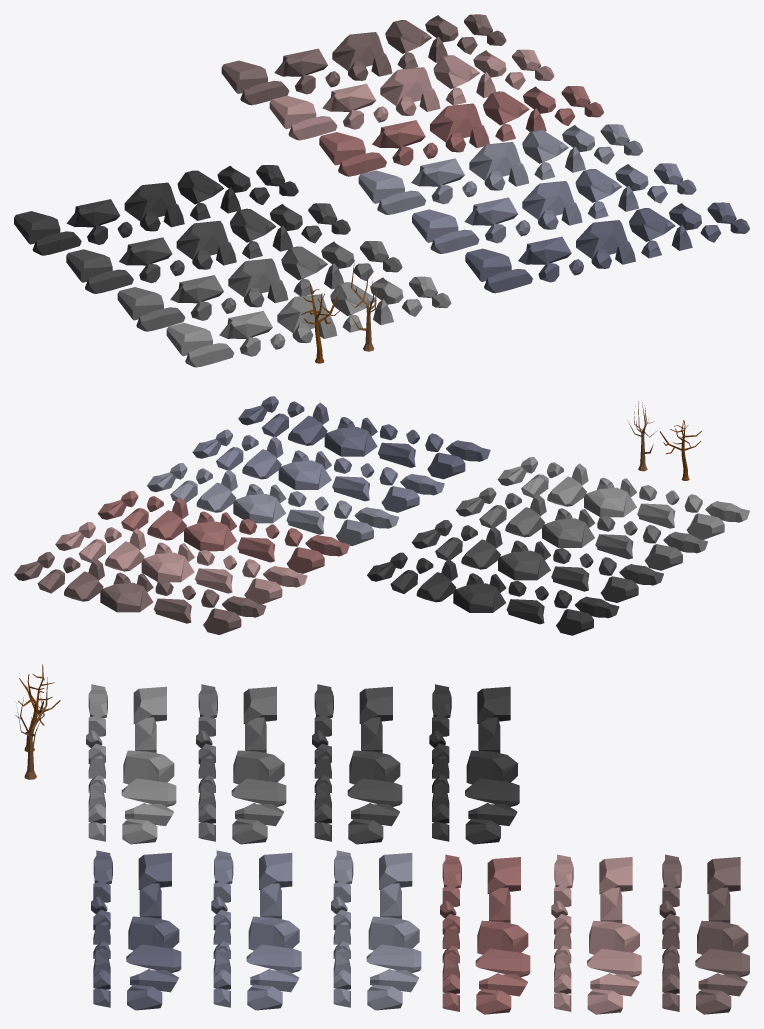
Rendered from BD_Enviroment.fbx.
3 views of the same model, one above another, from view 1: azimuth 30°, elevation 25°; view 2: azimuth 150°, elevation 25°; view 3: azimuth 270°, elevation 25° (orthographic). The views are drawn at different scales.
Visible parts, largest first — view 1: Material_001-material.138, Material_001-material.107, Material_001-material.047, Material_001-material.092, Material_001-material.153, Material_001-material.077, Material_001-material.122, Material_001-material.032, Material_001-material.062, Material_001-material.016, Material_001-material.094, Material_001-material.125 (+50 smaller); view 2: Material_001-material.107, Material_001-material.122, Material_001-material.047, Material_001-material.138, Material_001-material.062, Material_001-material.092, Material_001-material.077, Material_001-material.032, Material_001-material.016, Material_001-material.153, Material_001-material.015, Material_001-material.046 (+50 smaller); view 3: Material_001-material.138, Material_001-material.153, Material_001-material.032, Material_001-material.062, Material_001-material.016, Material_001-material.047, Material_001-material.122, Material_001-material.077, Material_001-material.107, Material_001-material.092, Material_001-material.076, Material_001-material.015 (+60 smaller).
Part boxes in pixels (bbox=[...]): Material_001-material.138: bbox=[522, 181, 573, 219]; Material_001-material.107: bbox=[332, 32, 383, 70]; Material_001-material.047: bbox=[176, 221, 228, 259]; Material_001-material.092: bbox=[380, 67, 431, 105]; Material_001-material.153: bbox=[469, 142, 520, 180]; Material_001-material.077: bbox=[430, 103, 481, 142]; Material_001-material.122: bbox=[576, 220, 627, 258]; Material_001-material.032: bbox=[228, 258, 279, 297]; Material_001-material.062: bbox=[124, 182, 175, 221]; Material_001-material.016: bbox=[277, 294, 328, 332]; Material_001-material.094: bbox=[269, 95, 316, 129]; Material_001-material.125: bbox=[465, 248, 511, 281]; Material_001-material.107: bbox=[100, 582, 153, 612]; Material_001-material.122: bbox=[324, 427, 377, 456]; Material_001-material.047: bbox=[498, 550, 550, 580]; Material_001-material.138: bbox=[278, 460, 331, 489]; Material_001-material.062: bbox=[453, 583, 505, 612]; Material_001-material.092: bbox=[141, 552, 194, 582]; Material_001-material.077: bbox=[184, 521, 236, 551]; Material_001-material.032: bbox=[542, 518, 594, 547]; Material_001-material.016: bbox=[584, 487, 636, 517]; Material_001-material.153: bbox=[233, 494, 286, 523]; Material_001-material.015: bbox=[547, 476, 586, 506]; Material_001-material.046: bbox=[461, 539, 500, 569]; Material_001-material.138: bbox=[248, 916, 299, 950]; Material_001-material.153: bbox=[368, 916, 419, 950]; Material_001-material.032: bbox=[233, 750, 284, 784]; Material_001-material.062: bbox=[466, 750, 517, 784]; Material_001-material.016: bbox=[123, 750, 174, 784]; Material_001-material.047: bbox=[349, 750, 400, 784]; Material_001-material.122: bbox=[128, 916, 179, 950]; Material_001-material.077: bbox=[477, 920, 528, 954]; Material_001-material.107: bbox=[697, 920, 748, 954]; Material_001-material.092: bbox=[589, 920, 639, 954]; Material_001-material.076: bbox=[475, 948, 530, 977]; Material_001-material.015: bbox=[121, 778, 176, 806].
Size of the model in its own units: 20775 by 3315 by 20439.
